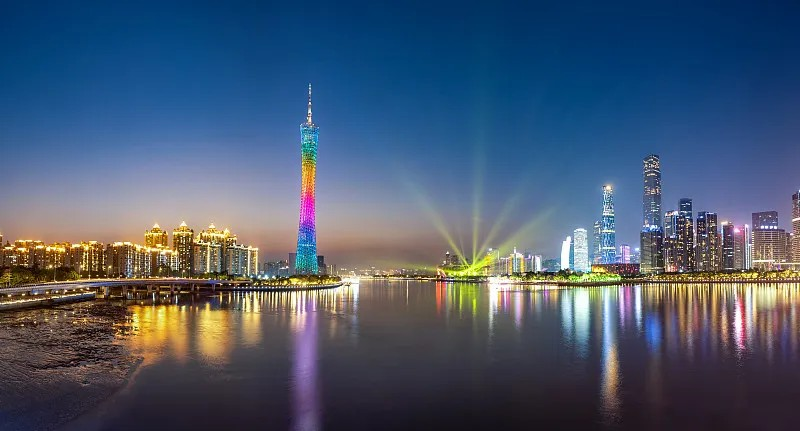Canton: (294, 84, 321, 279)
